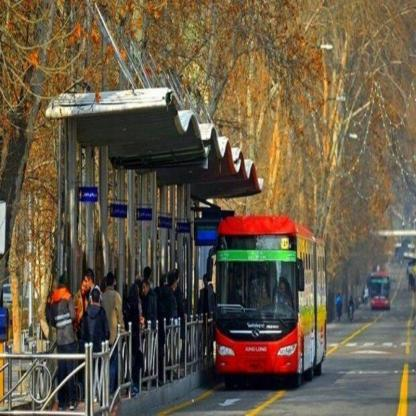Bus: (208, 208, 326, 382), (365, 266, 396, 308)
